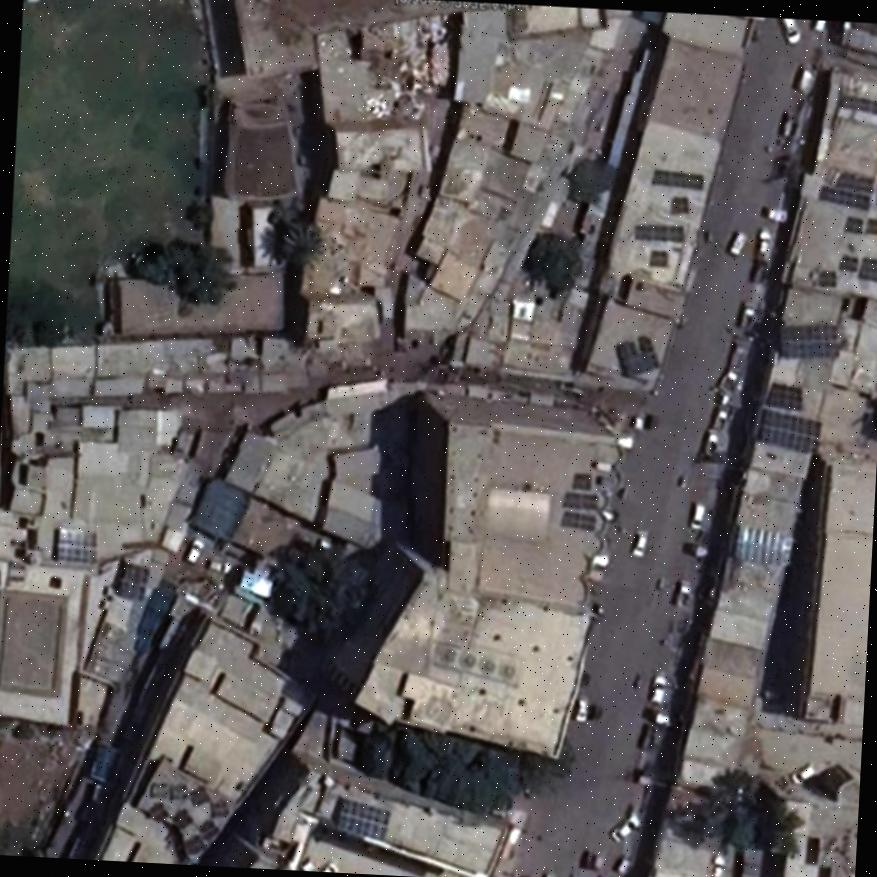Solarpanel: (758, 409, 821, 450), (337, 803, 387, 839), (781, 326, 837, 358), (822, 174, 873, 208), (55, 525, 95, 562), (652, 171, 703, 189), (121, 565, 147, 600), (768, 384, 802, 410), (636, 225, 682, 242), (561, 511, 594, 531), (563, 492, 595, 510), (182, 788, 209, 808), (148, 802, 168, 823), (185, 835, 205, 854), (173, 809, 192, 829), (861, 257, 877, 278), (843, 215, 862, 232), (199, 822, 216, 841), (574, 475, 591, 489), (818, 271, 836, 284), (842, 255, 855, 271)
